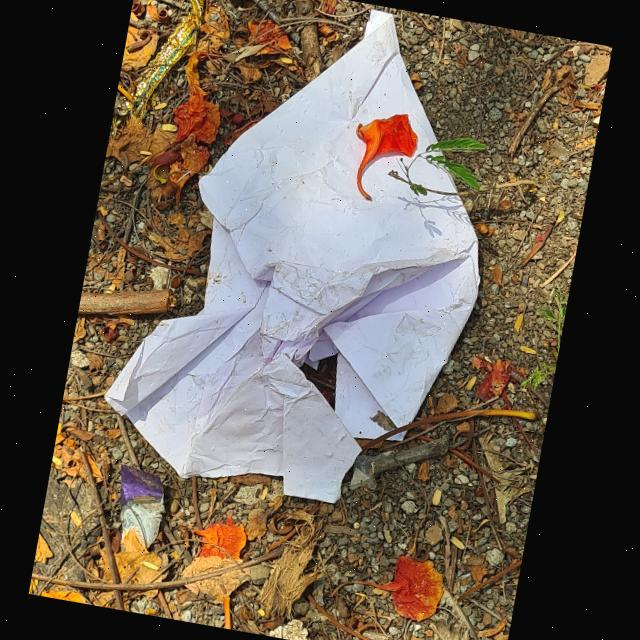trash: (91, 0, 524, 524)
